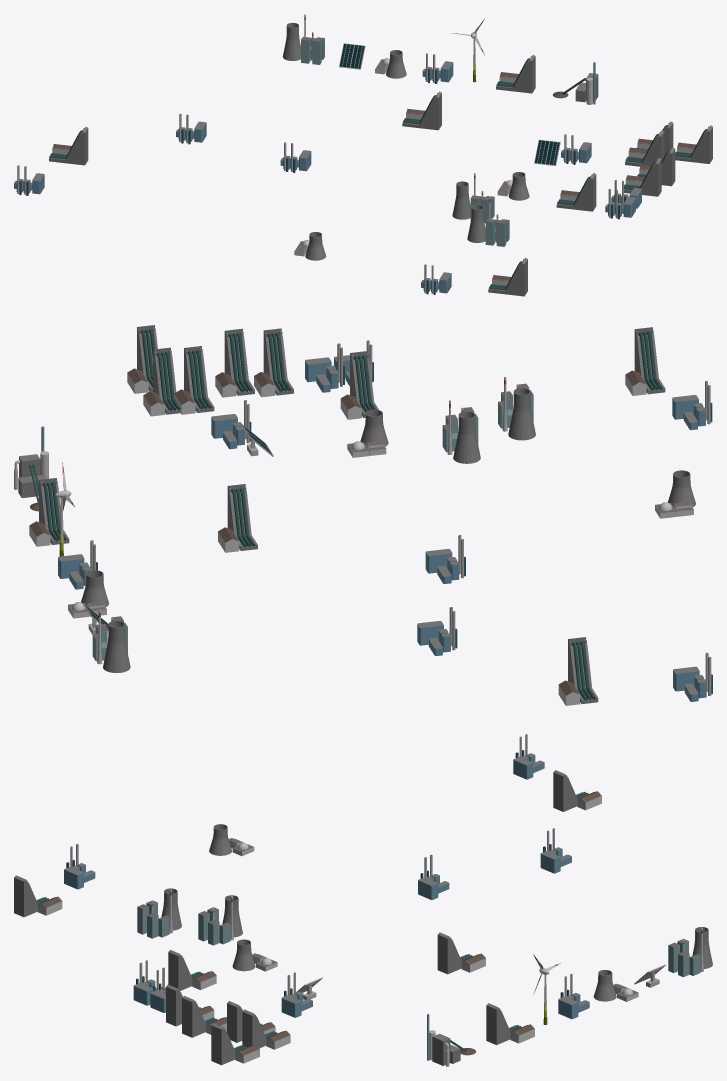
The model's file is kraftwerke_textures.glb.
3 renders of one model, top to bottom at view 1: azimuth 30°, elevation 25°; view 2: azimuth 150°, elevation 25°; view 3: azimuth 270°, elevation 25°, orthographic. The views are drawn at different scales.
Parts seen in each view (by area): view 1: mineraloel_kohle002.001; view 2: mineraloel_kohle002.001; view 3: mineraloel_kohle002.001.
Part boxes in pixels (x1,y1,x2,y2): mineraloel_kohle002.001: [14, 14, 712, 296]; mineraloel_kohle002.001: [14, 325, 712, 705]; mineraloel_kohle002.001: [14, 734, 712, 1066].
Size of the model in its own units: 95.52 by 10.81 by 93.9.
7 materials, 7 textured.
